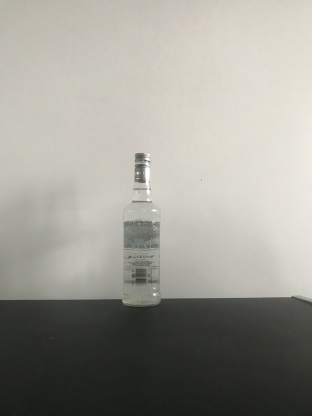nakretka: (133, 151, 151, 183)
